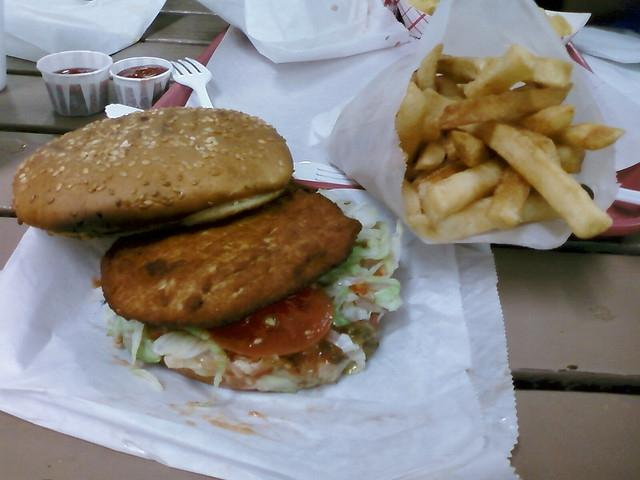lettuce: (317, 221, 392, 283), (184, 329, 230, 406), (322, 326, 367, 375), (152, 331, 215, 361), (121, 324, 161, 364), (164, 350, 218, 376), (323, 284, 353, 327), (382, 218, 403, 271), (234, 354, 280, 376), (353, 298, 388, 324), (255, 374, 301, 393), (340, 302, 372, 322), (333, 276, 366, 290), (344, 292, 358, 302)
tomato: (206, 286, 334, 358)
